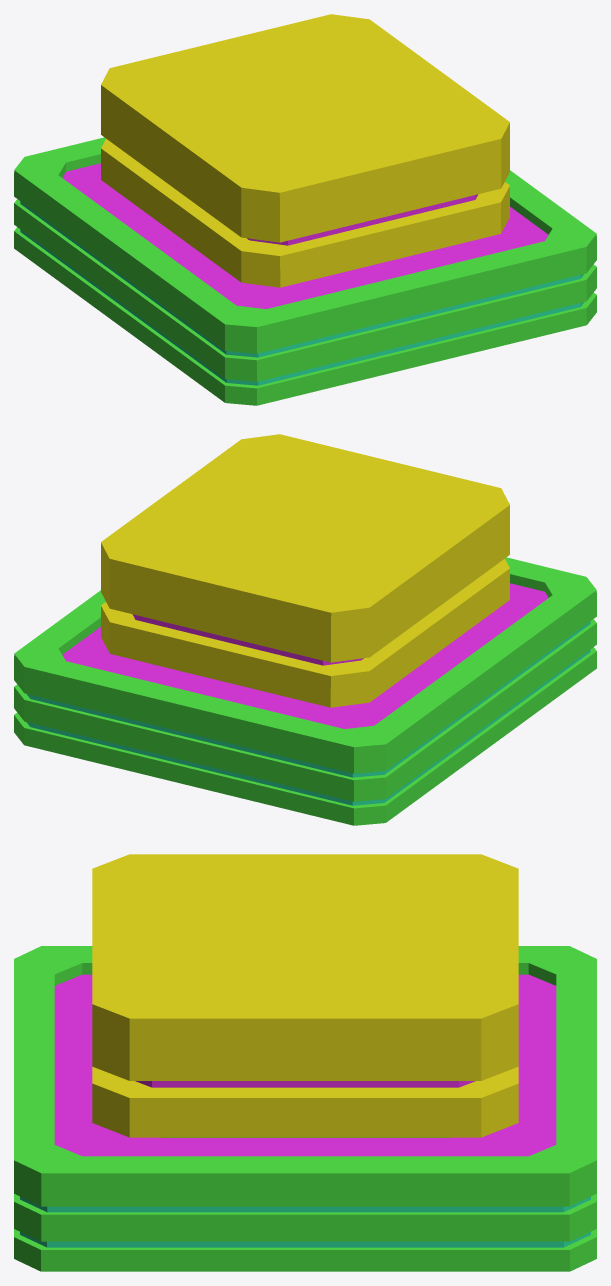
File: Lamp_13.fbx
3 views of the same model, one above another, from view 1: azimuth 30°, elevation 25°; view 2: azimuth 150°, elevation 25°; view 3: azimuth 270°, elevation 25° (orthographic). The views are drawn at different scales.
Parts seen in each view (by area): view 1: Lamp_13; view 2: Lamp_13; view 3: Lamp_13.
Boxes of the visible parts, box(x1,y1,x2,y2) form: Lamp_13: box(14, 14, 596, 405); Lamp_13: box(14, 434, 596, 825); Lamp_13: box(14, 854, 596, 1271).
Bounding box in the file's own units: 61.71 × 28.05 × 66.89.
